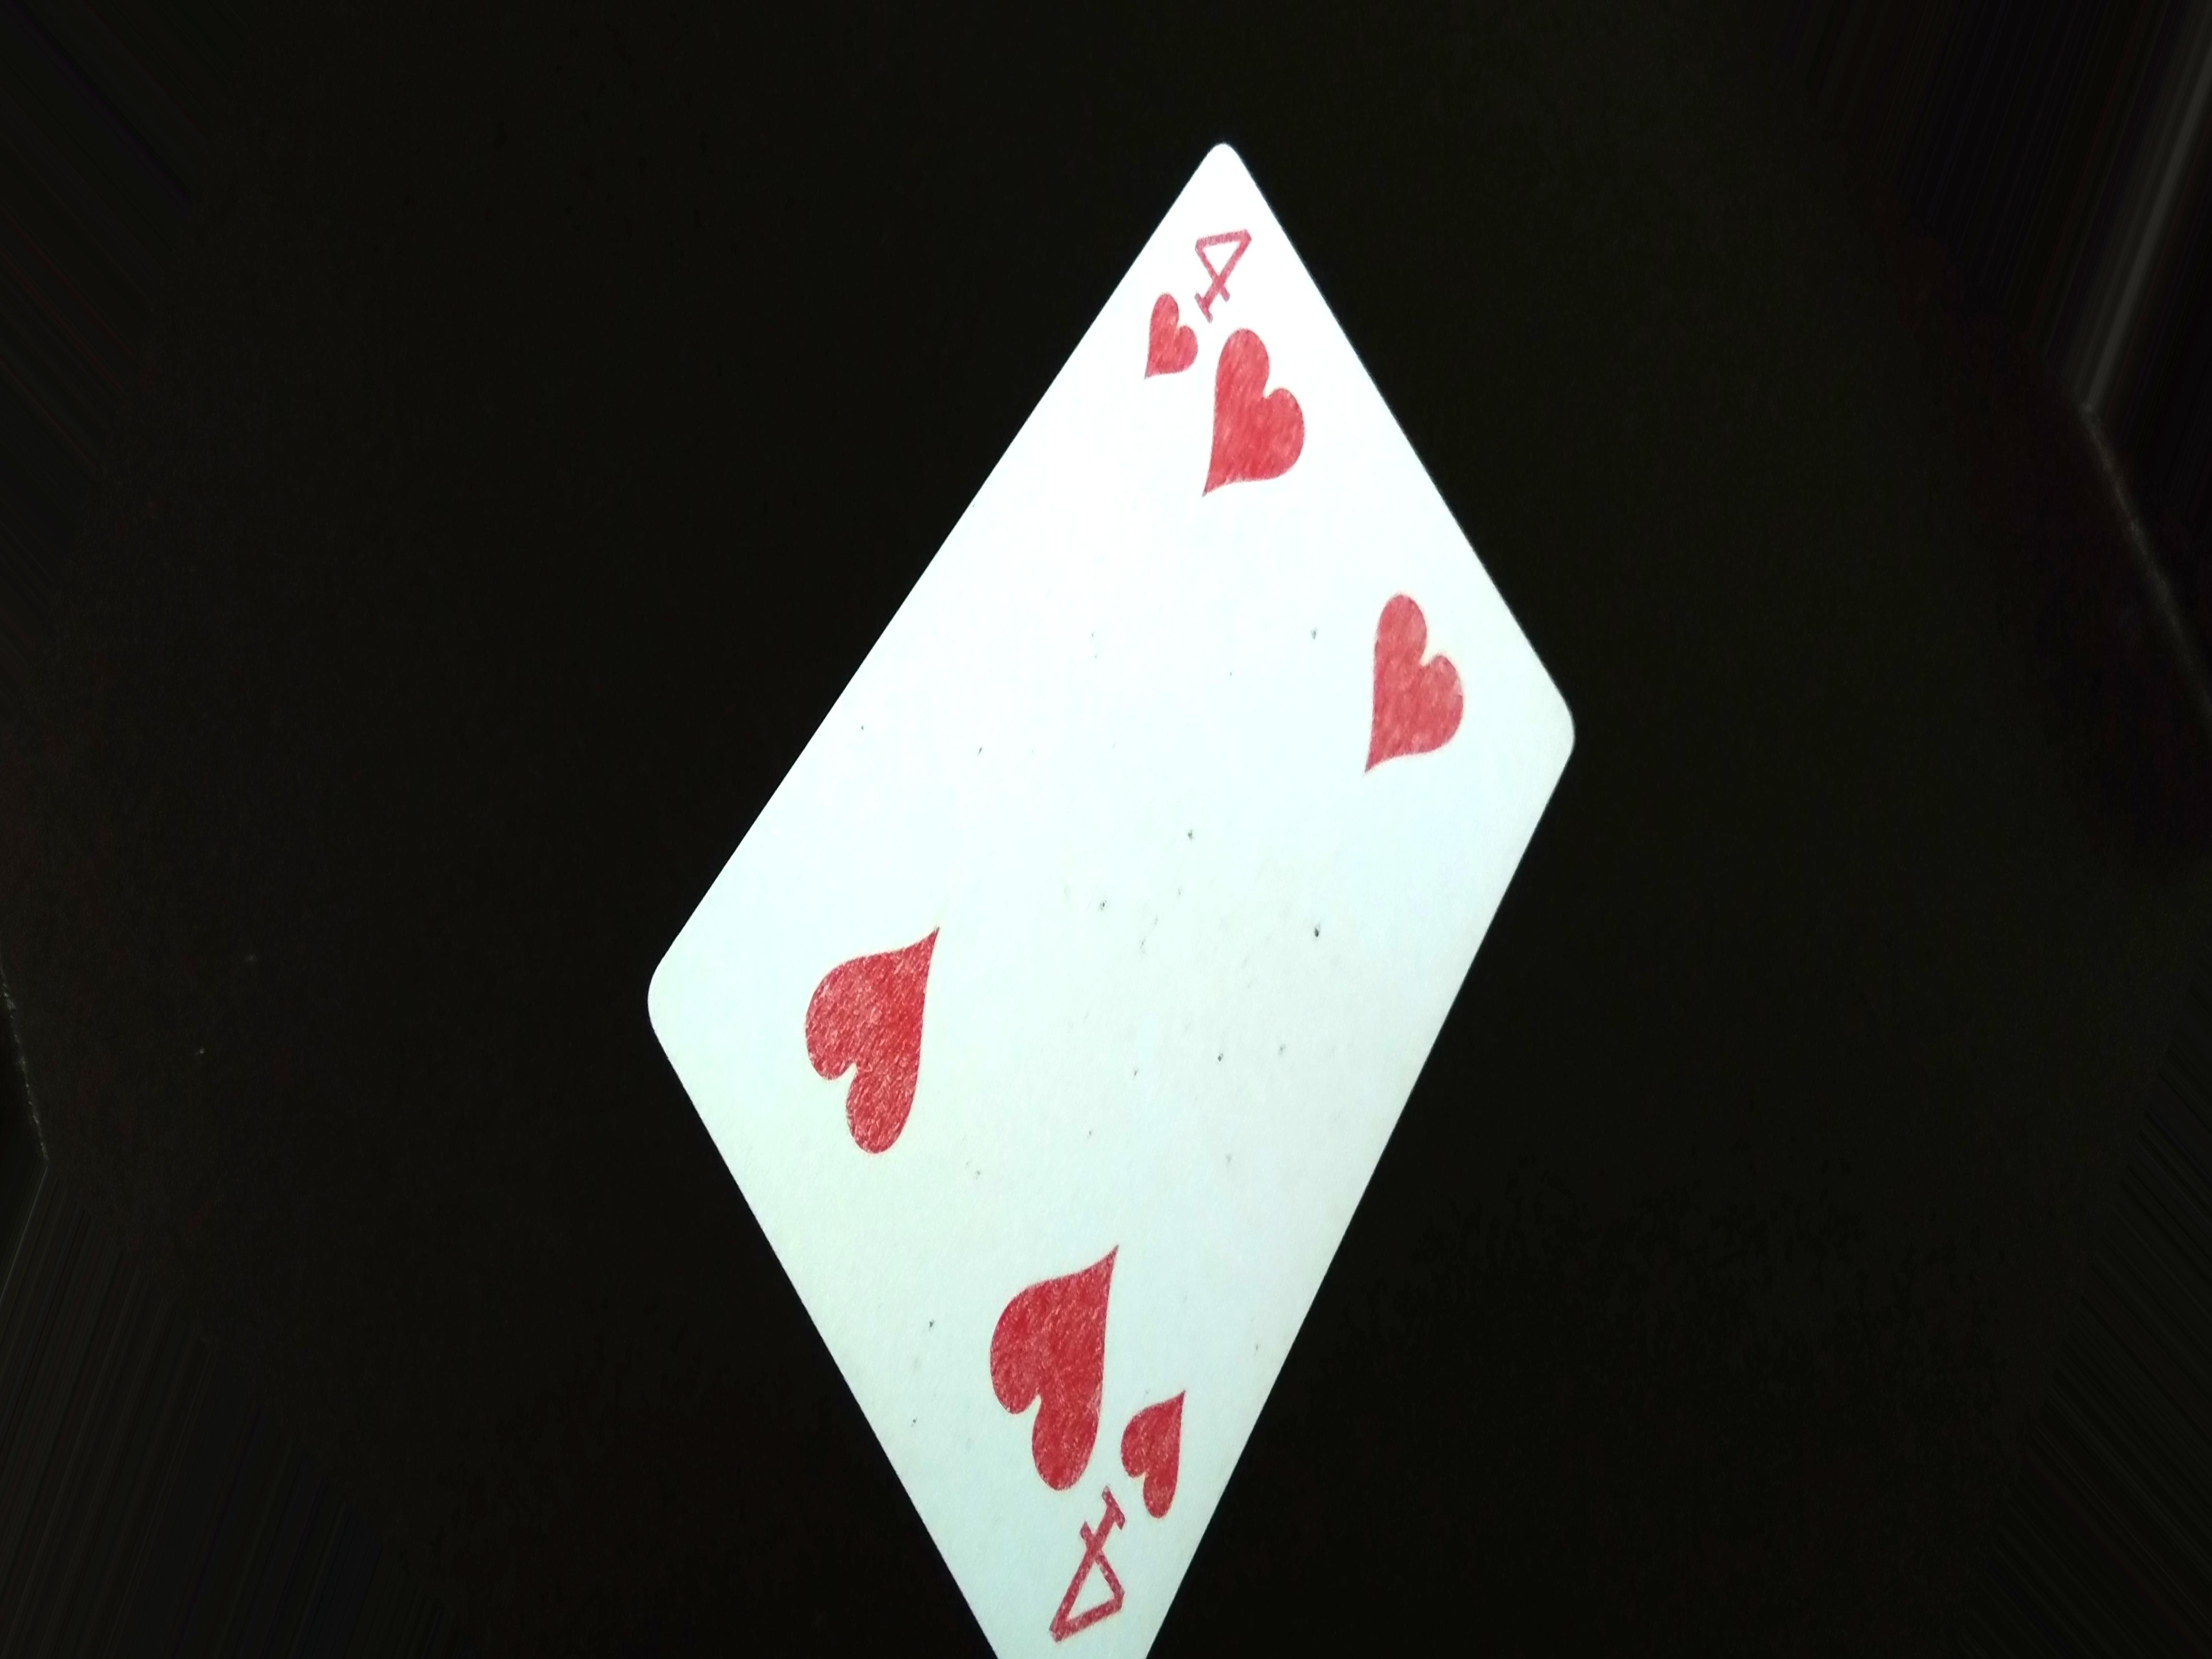4H: (1132, 213, 1266, 385)
